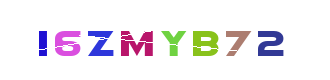2: (230, 0, 310, 80)
6: (40, 0, 120, 80)
7: (194, 0, 274, 80)
B: (154, 0, 234, 80)
I: (27, 0, 107, 80)
M: (125, 0, 205, 80)
Y: (148, 0, 228, 80)
Z: (97, 0, 177, 80)
